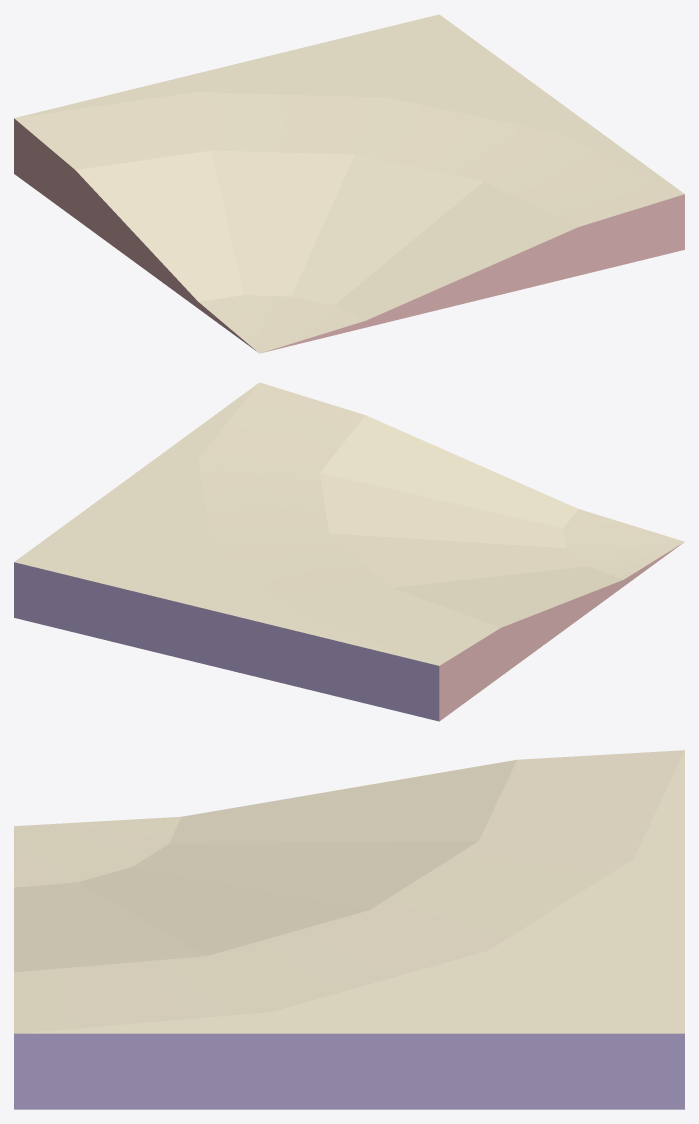
Rendered from Terrain_Sand_Incline_Curve_Inner_4x4.glb.
3 renders of one model, top to bottom at view 1: azimuth 30°, elevation 25°; view 2: azimuth 150°, elevation 25°; view 3: azimuth 270°, elevation 25°, orthographic. The views are drawn at different scales.
Visible parts, largest first — view 1: Terrain_Sand_Incline_Curve_Inner_4x4; view 2: Terrain_Sand_Incline_Curve_Inner_4x4; view 3: Terrain_Sand_Incline_Curve_Inner_4x4.
Boxes of the visible parts, box(x1,y1,x2,y2) form: Terrain_Sand_Incline_Curve_Inner_4x4: box(14, 14, 684, 353); Terrain_Sand_Incline_Curve_Inner_4x4: box(14, 382, 684, 721); Terrain_Sand_Incline_Curve_Inner_4x4: box(14, 750, 684, 1109).
Bounding box in the file's own units: 400 × 50 × 400.
